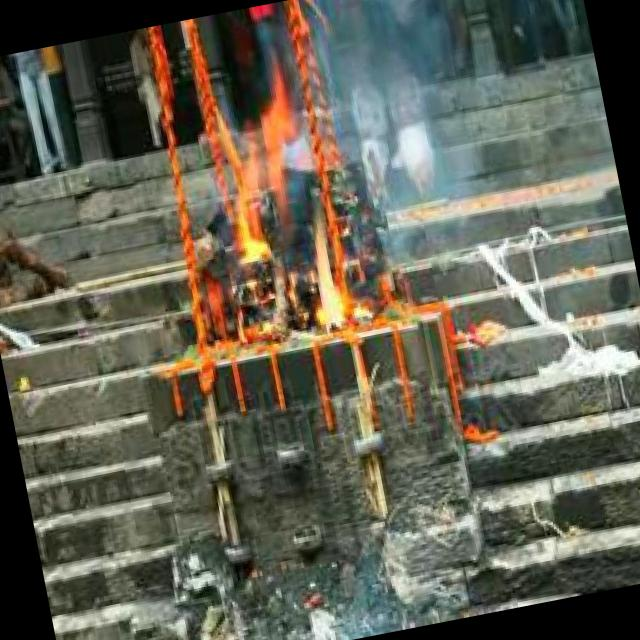Fire: (204, 77, 360, 349)
